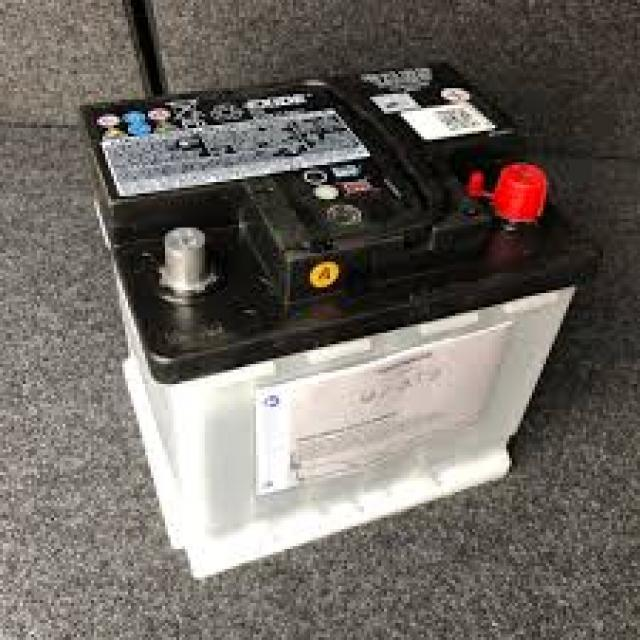battery: (81, 51, 598, 584)
